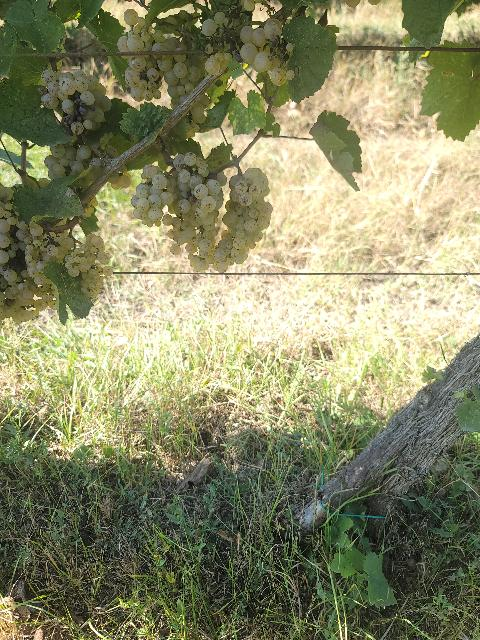grapes: (118, 9, 232, 109), (212, 168, 272, 272), (172, 152, 222, 270), (40, 70, 111, 135), (65, 234, 112, 299), (131, 164, 172, 226)
